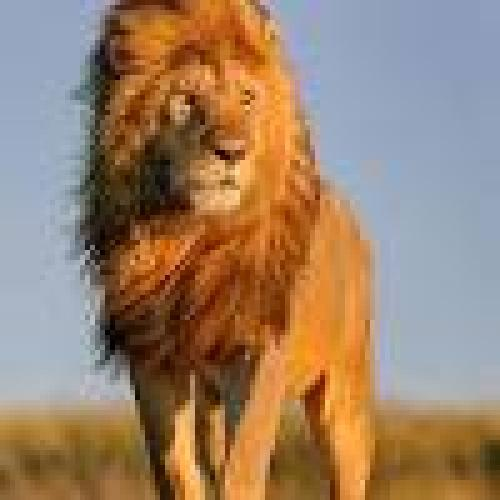lion-endangered: (84, 0, 376, 500)
